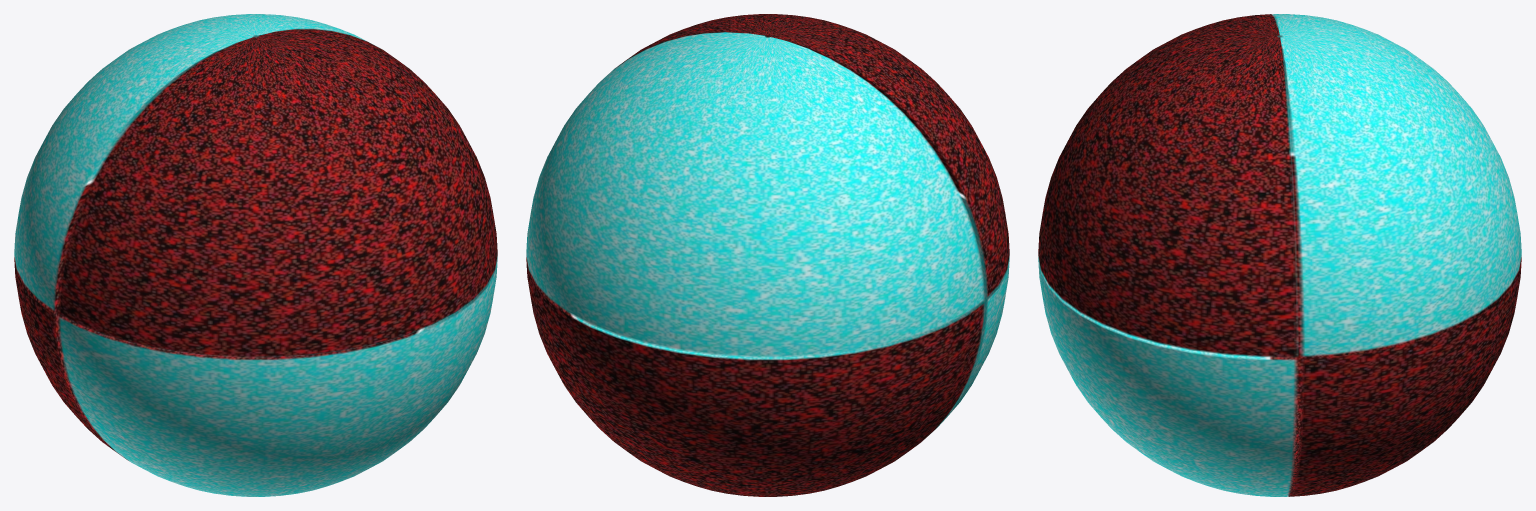
3 renders of one model, left to right at view 1: azimuth 30°, elevation 25°; view 2: azimuth 150°, elevation 25°; view 3: azimuth 270°, elevation 25°, orthographic.
Parts seen in each view (by area): view 1: SM_VFX_DreamStone_Sphere_LOD0; view 2: SM_VFX_DreamStone_Sphere_LOD0; view 3: SM_VFX_DreamStone_Sphere_LOD0.
Boxes of the visible parts, x1,y1,x2,y2 form: SM_VFX_DreamStone_Sphere_LOD0: (14,14,497,496); SM_VFX_DreamStone_Sphere_LOD0: (526,14,1009,496); SM_VFX_DreamStone_Sphere_LOD0: (1038,14,1521,496).
Size of the model in its own units: 0.4986 by 0.5 by 0.5.
1 material, 1 textured.
